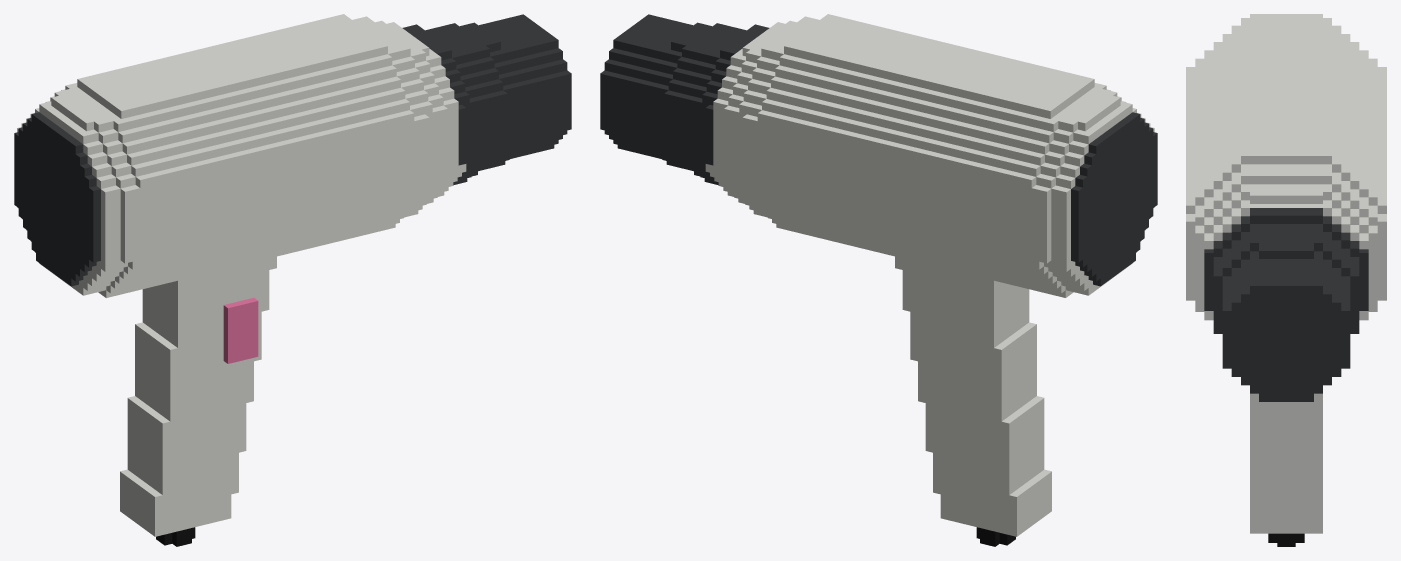
The model's file is hair_dryer.glb.
3 renders of one model, left to right at view 1: azimuth 30°, elevation 25°; view 2: azimuth 150°, elevation 25°; view 3: azimuth 270°, elevation 25°, orthographic. The views are drawn at different scales.
Parts seen in each view (by area): view 1: hair_dryer:compound; view 2: hair_dryer:compound; view 3: hair_dryer:compound.
Boxes of the visible parts, left/top/right/bottom form: hair_dryer:compound: left=14, top=14, right=571, bottom=546; hair_dryer:compound: left=600, top=14, right=1157, bottom=546; hair_dryer:compound: left=1186, top=14, right=1386, bottom=546.
Bounding box in the file's own units: 0.256 × 0.232 × 0.088.
